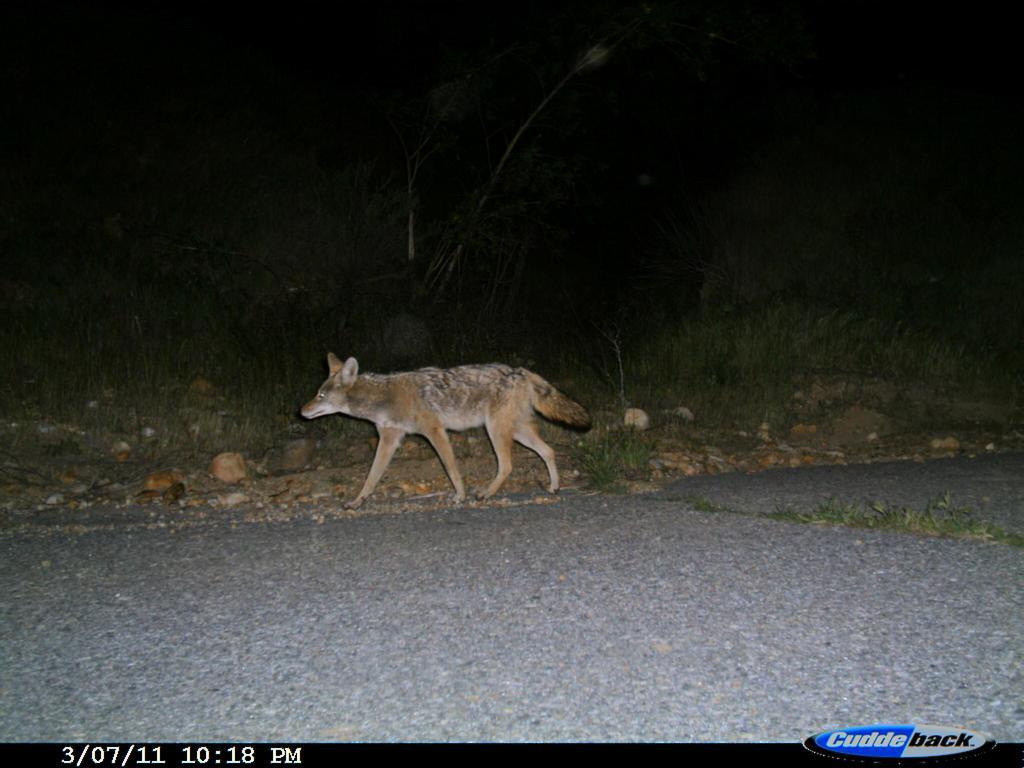coyote: (292, 344, 605, 520)
